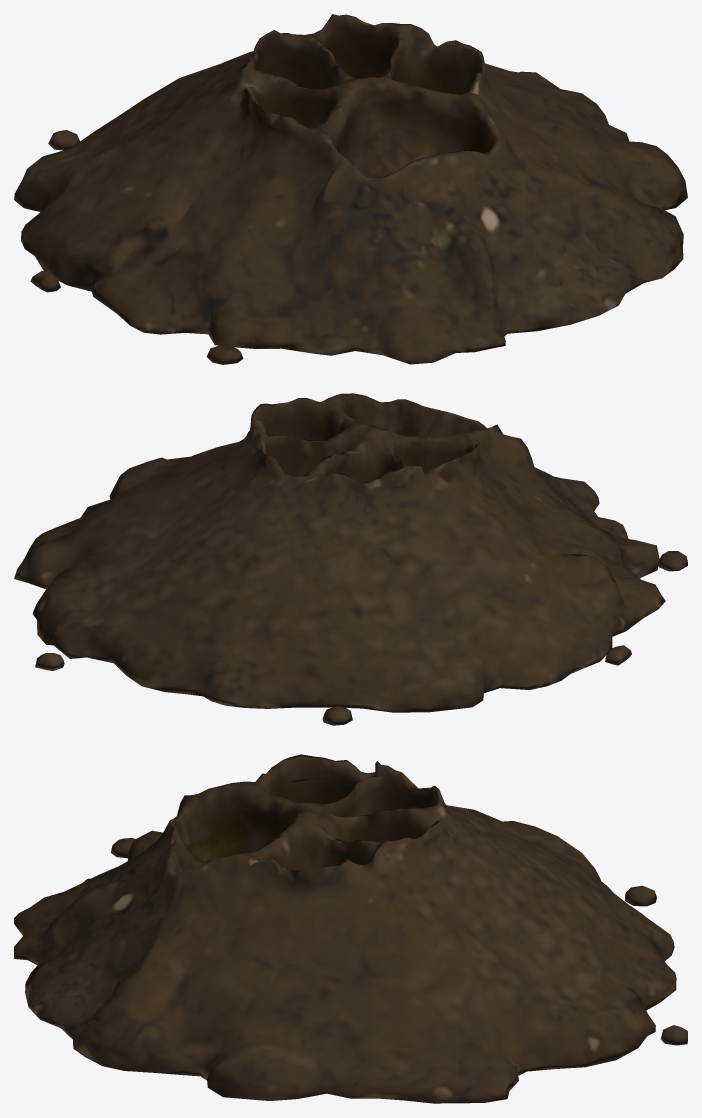
The model's file is SuperMonticule1.fbx.
3 views of the same model, one above another, from view 1: azimuth 30°, elevation 25°; view 2: azimuth 150°, elevation 25°; view 3: azimuth 270°, elevation 25° (orthographic). The views are drawn at different scales.
Parts seen in each view (by area): view 1: geometry_0; view 2: geometry_0; view 3: geometry_0.
Part boxes in pixels (<box>): geometry_0: <box>14,14,687,364</box>; geometry_0: <box>14,393,687,725</box>; geometry_0: <box>14,754,687,1103</box>.
Bounding box in the file's own units: 100 × 26.84 × 100.
Materials: 1 (1 with a texture image).
